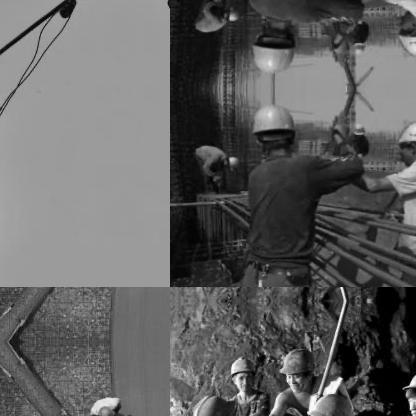Helmet: (250, 100, 300, 160), (250, 14, 300, 74), (280, 345, 312, 391), (302, 391, 352, 415), (186, 392, 234, 415), (394, 117, 415, 166), (394, 9, 415, 58), (225, 354, 252, 392), (402, 361, 415, 415), (220, 150, 240, 170), (220, 4, 240, 24), (348, 116, 366, 136), (348, 38, 366, 58), (92, 401, 116, 415)
